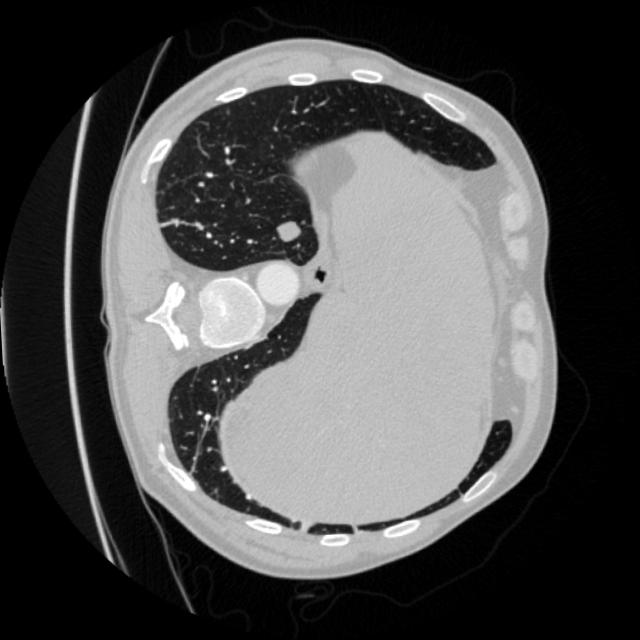nodule: (266, 209, 313, 256)
